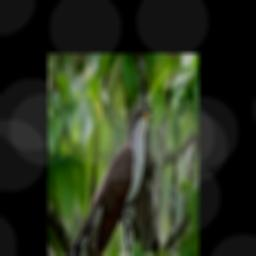Cuckoo: (58, 106, 153, 256)
